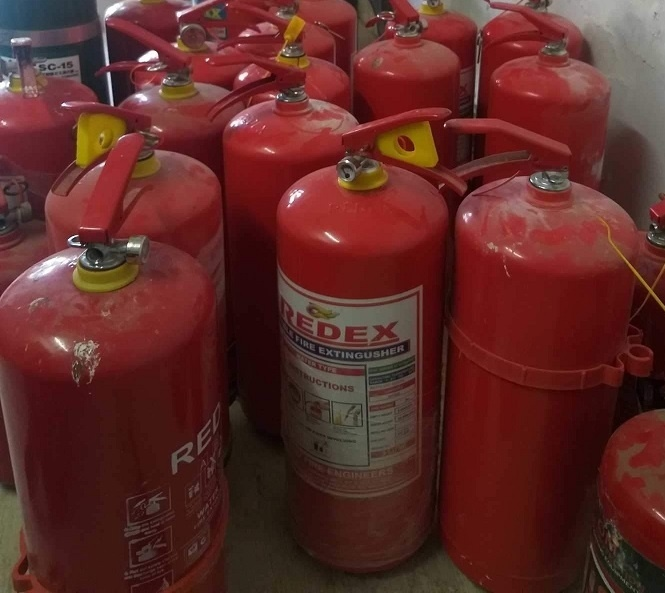fire_extinguisher: (1, 0, 663, 593)
